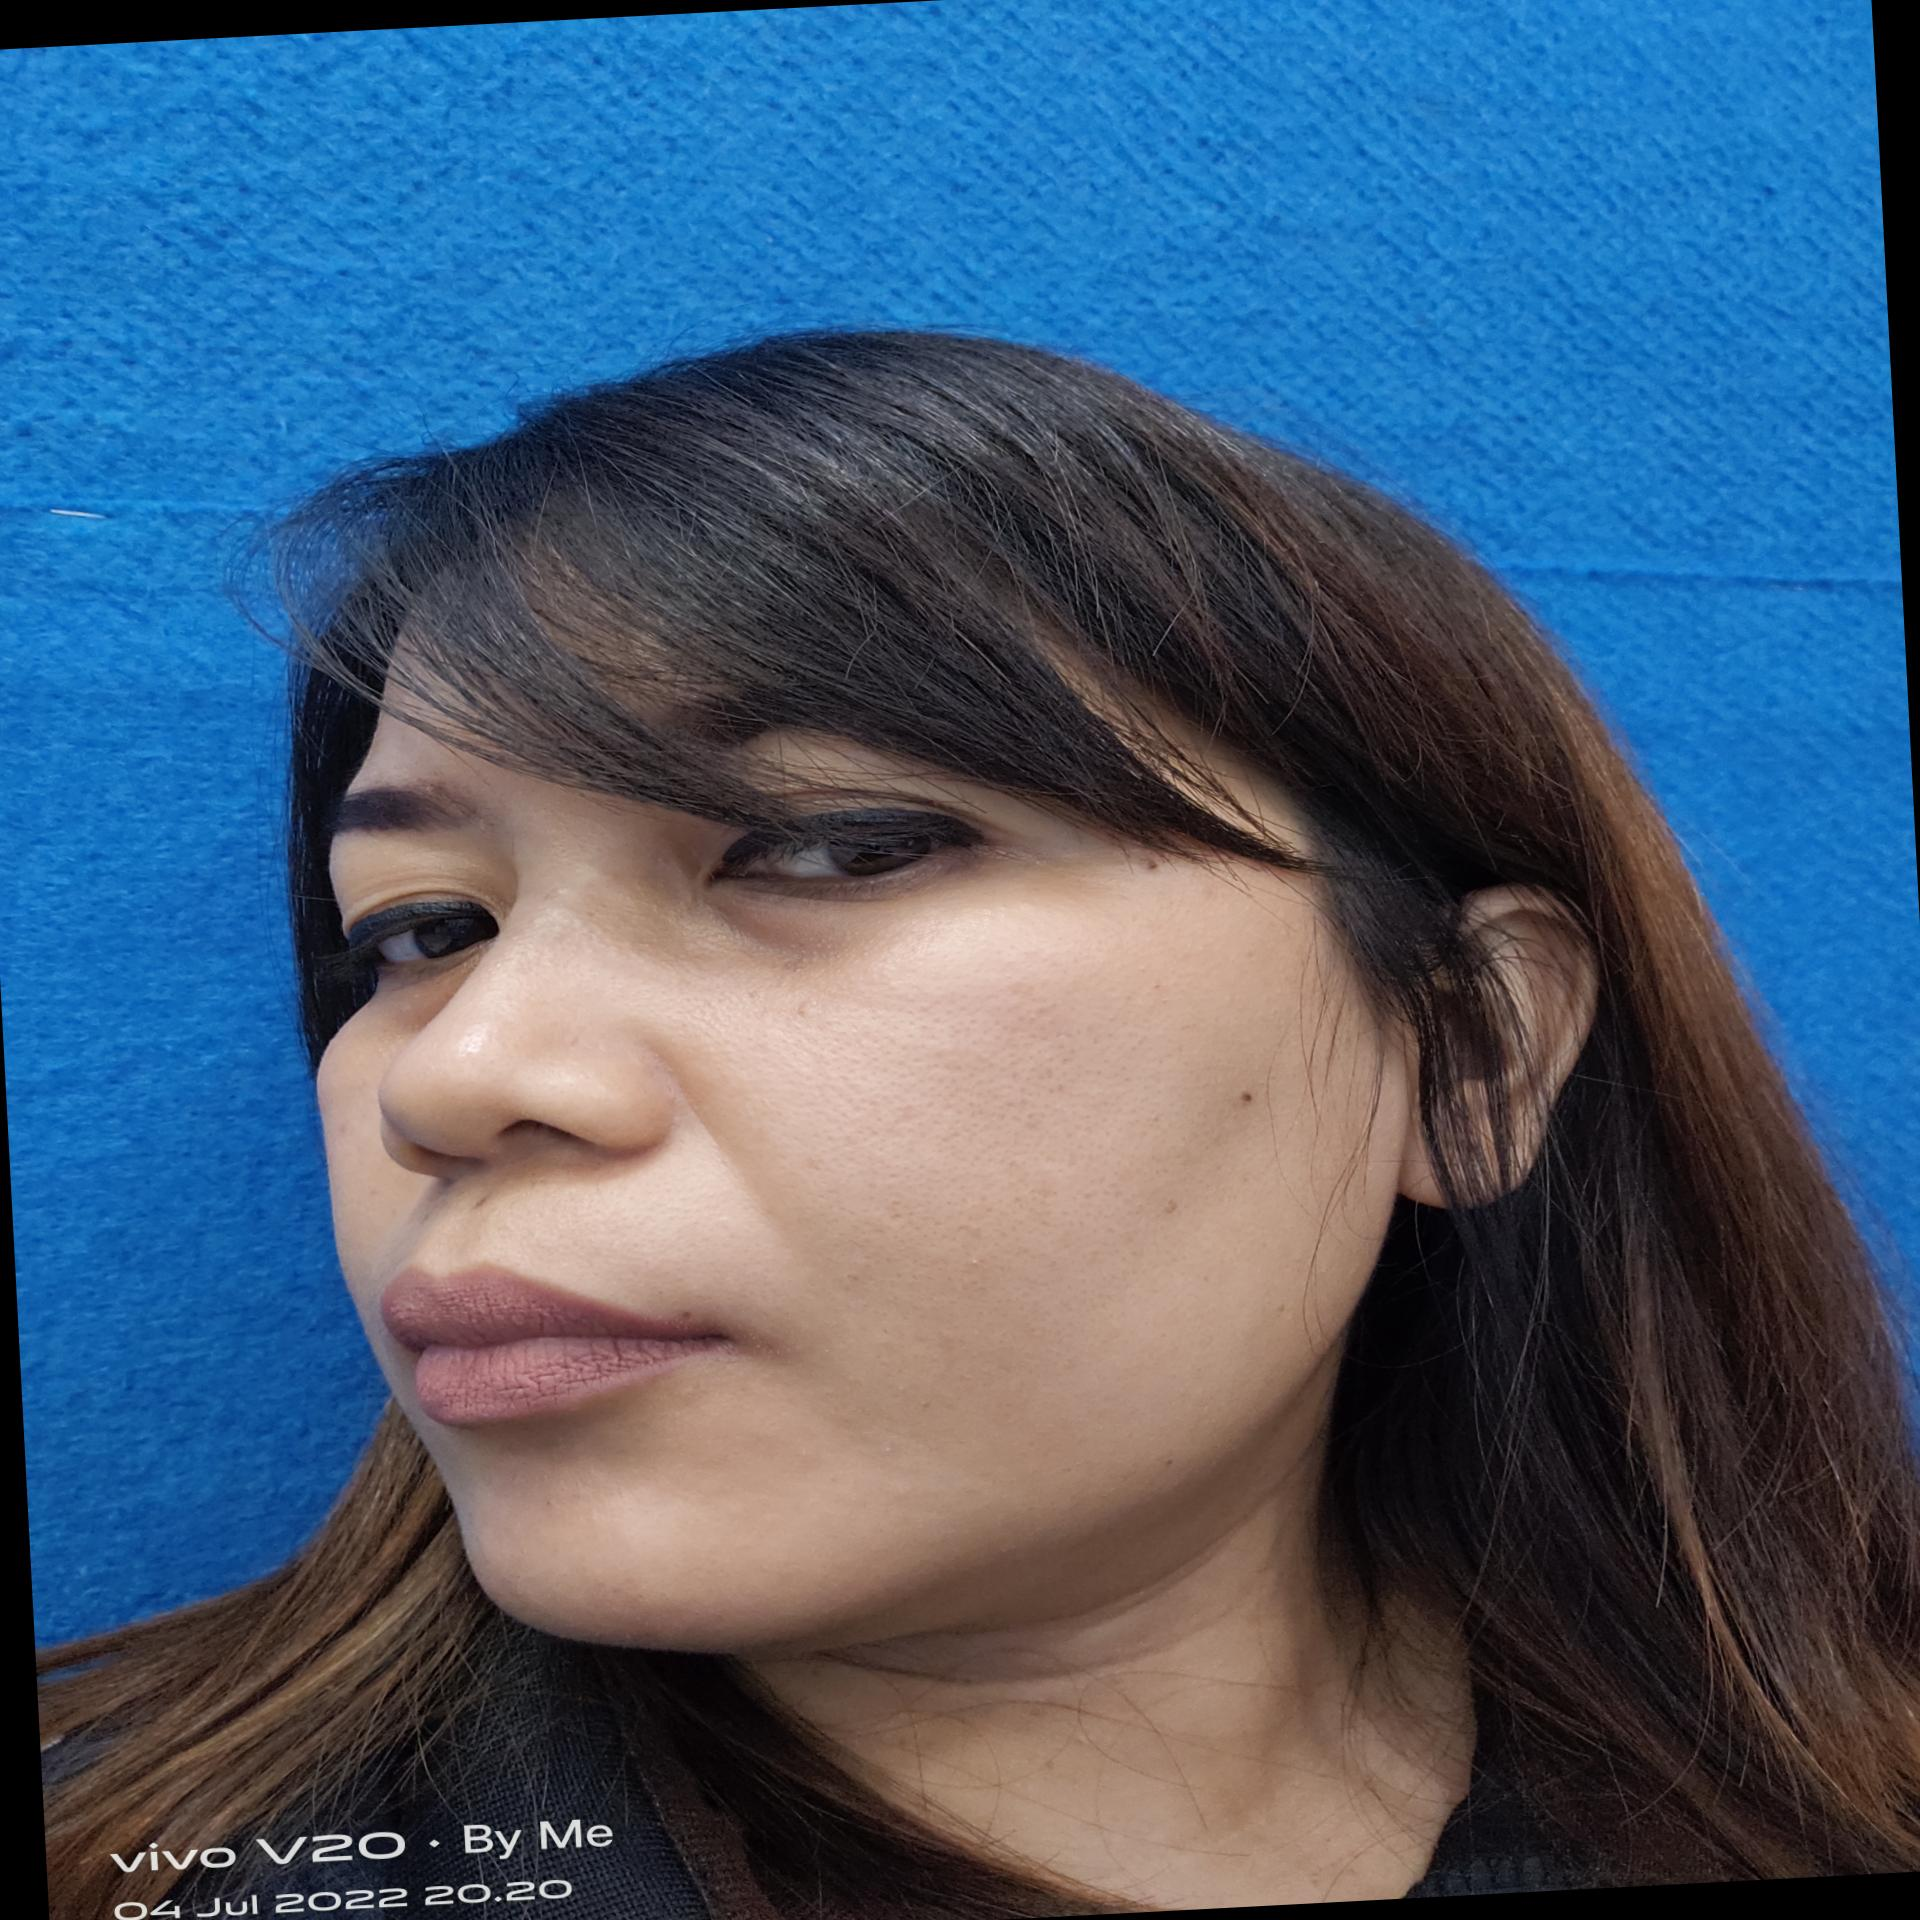Acne: (1155, 1194, 1187, 1218), (415, 774, 448, 796), (327, 1116, 355, 1141)
Englarged Pores: (781, 964, 1159, 1194)
